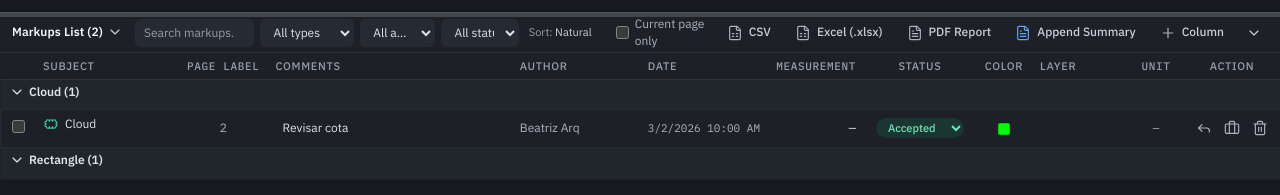
Test: MarkupsList Context Menu (Añadir a Tool Chest B.4) › P2-C.1 Filtros, ordenación y barra de herramientas › muestra mensaje vacío y permite restablecer con botón de limpiar
Type "sin_resultados_xyz" into the search field with test id "markups-search-input" at (195, 32), box [135,18,254,46]
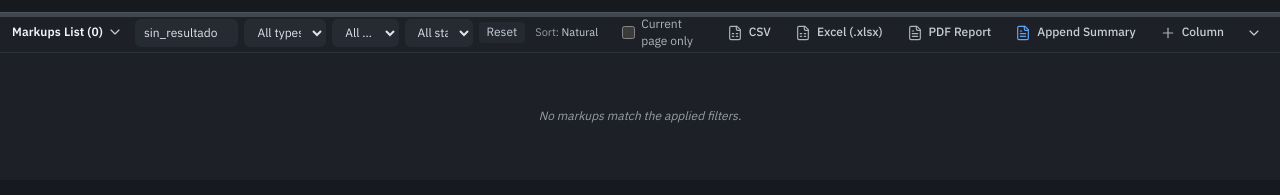
Now the text "No markups match the applied filters." is shown, box [539,108,741,123]
Click the button with test id "markups-reset-filters-btn" at (502, 32), box [478,22,525,43]
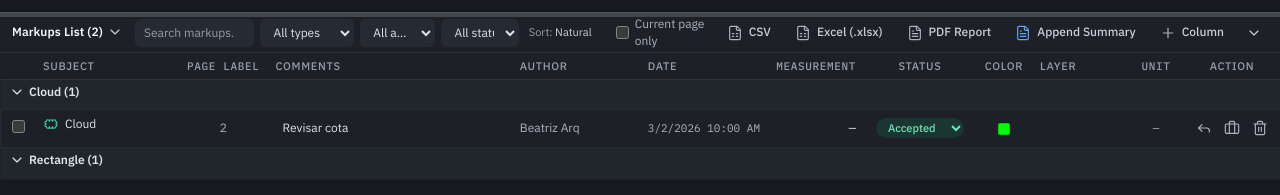
Now the row with test id "markup-row-m-2" is shown, box [1,110,1279,147]
